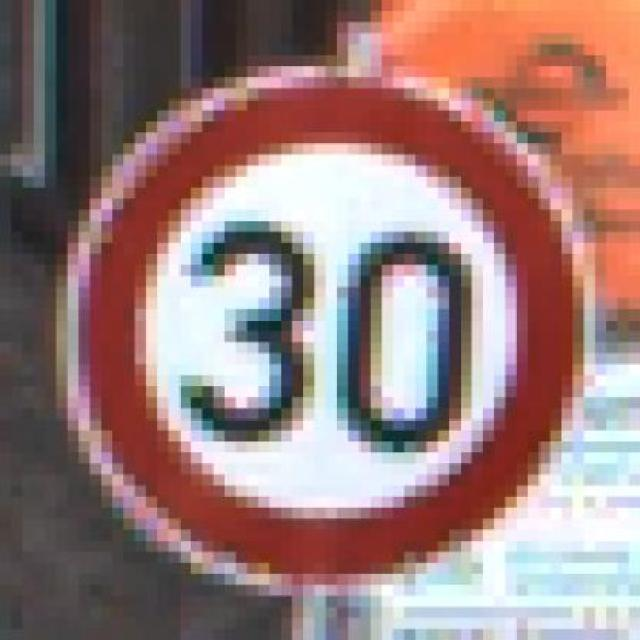Speed Limit 30 KMPh: (45, 33, 606, 607)
